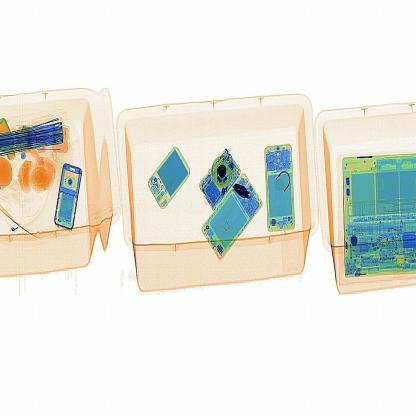scissors: (229, 176, 262, 212)
